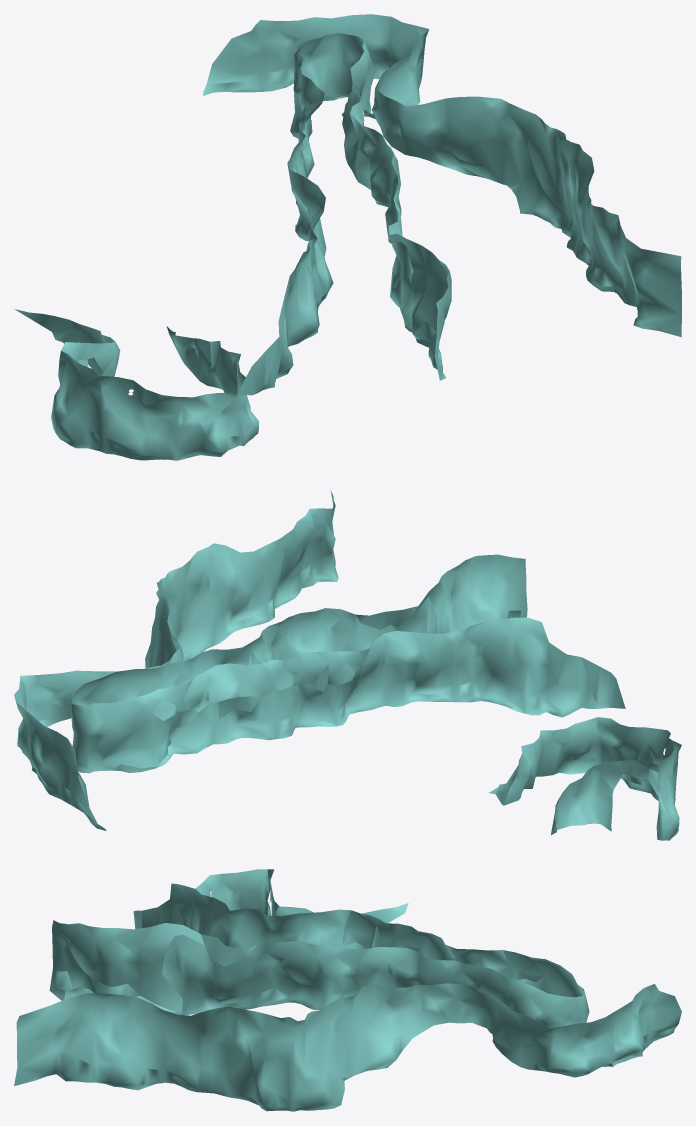
Rendered from cluster_3.fbx.
3 views of the same model, one above another, from view 1: azimuth 30°, elevation 25°; view 2: azimuth 150°, elevation 25°; view 3: azimuth 270°, elevation 25° (orthographic). The views are drawn at different scales.
Parts seen in each view (by area): view 1: cluster_3; view 2: cluster_3; view 3: cluster_3.
Part boxes in pixels (x1,y1,x2,y2): cluster_3: (14,14,681,460); cluster_3: (14,490,681,840); cluster_3: (14,869,681,1111).
Size of the model in its own units: 1578512 by 527260 by 1874755.
